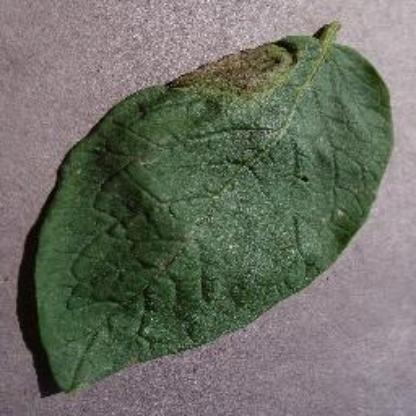Late-Blight: (24, 21, 398, 398)
